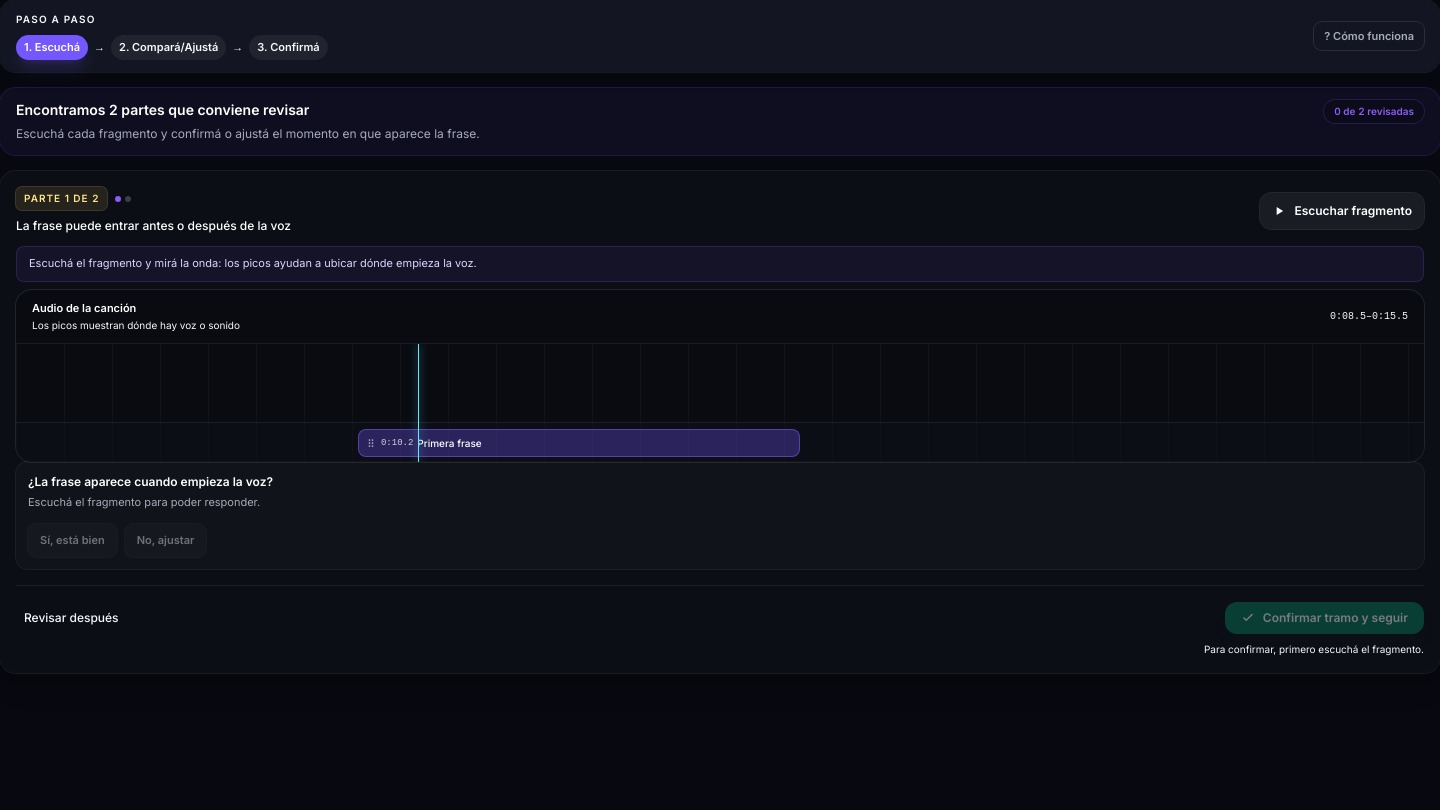
Test case: GuidedTimingReview › mantiene el paso a paso y oculta ajustes hasta que hacen falta
The image size is (1440, 810).
Expected: the element with test id "guided-stepper" shows "1. Escuchá", x1=0 y1=0 x2=1439 y2=72
Expected: the element with test id "guided-stepper" shows "2. Compará/Ajustá", x1=0 y1=0 x2=1439 y2=72
Click the button "Escuchar fragmento".
click(1342, 210)  # box x1=1260 y1=192 x2=1424 y2=228
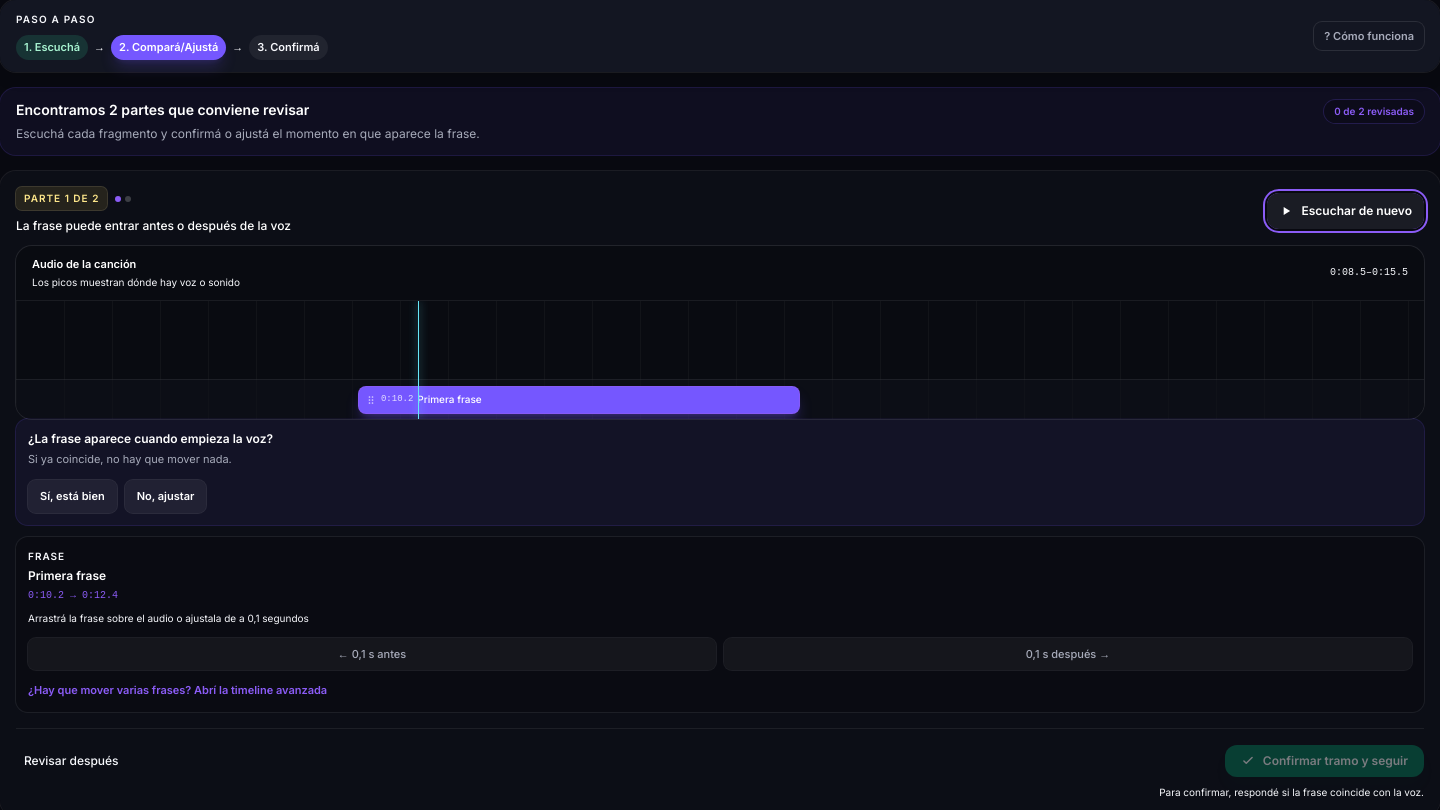
Expected: the text "¿La frase aparece cuando empieza la voz?" is shown, x1=28 y1=430 x2=273 y2=446
Expected: the element with test id "guided-phrase-panel" shows "0:10.2 → 0:12.4", x1=16 y1=537 x2=1424 y2=712
Expected: the button with aria-label "mover 0,1 segundos antes" is shown, x1=28 y1=638 x2=716 y2=670
Click the button "No, ajustar".
click(165, 497)  # box x1=125 y1=480 x2=206 y2=513
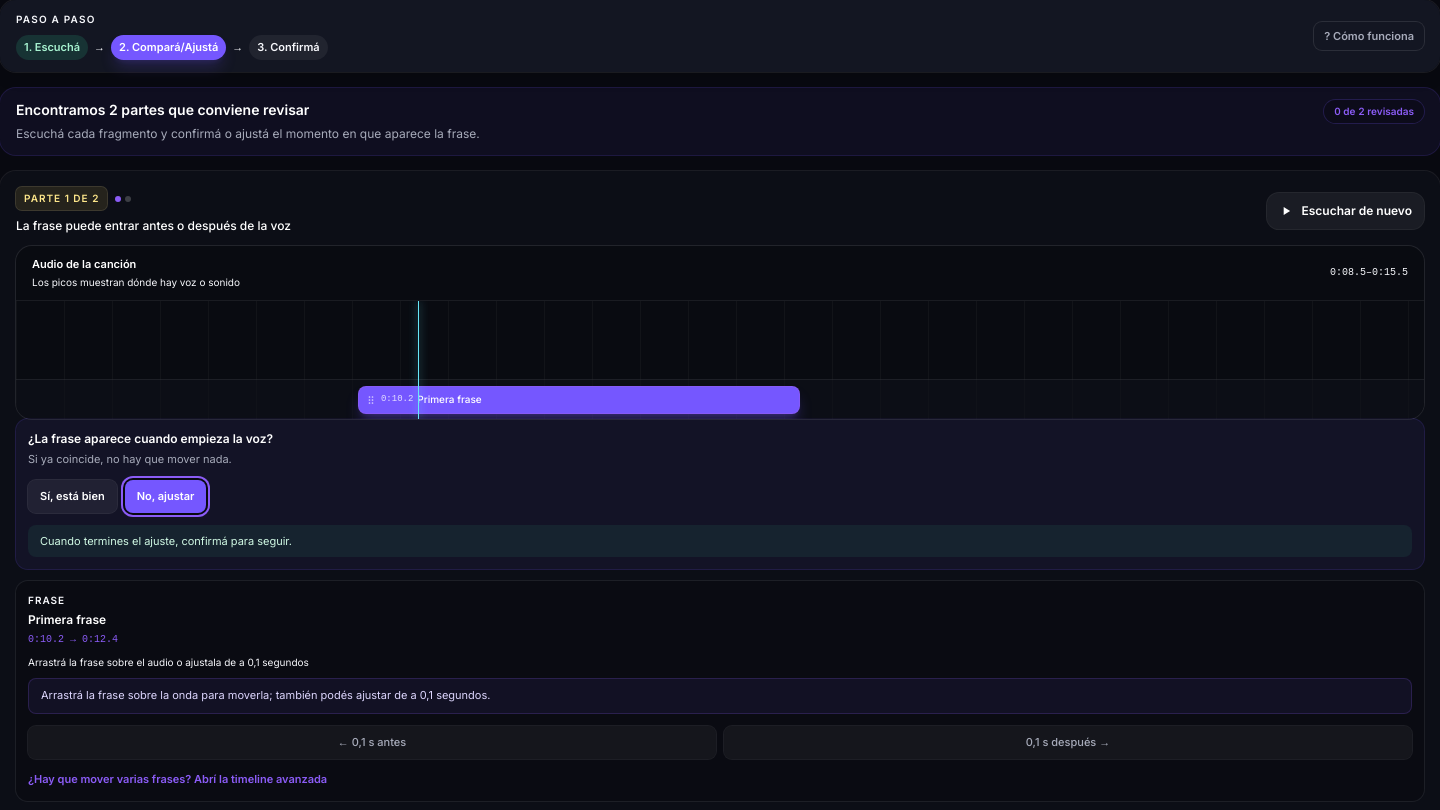
Expected: the button with aria-label "mover 0,1 segundos antes" is shown, x1=28 y1=726 x2=716 y2=759
Expected: the text with test id "guided-phrase-coachmark" is shown, x1=28 y1=678 x2=1412 y2=714
